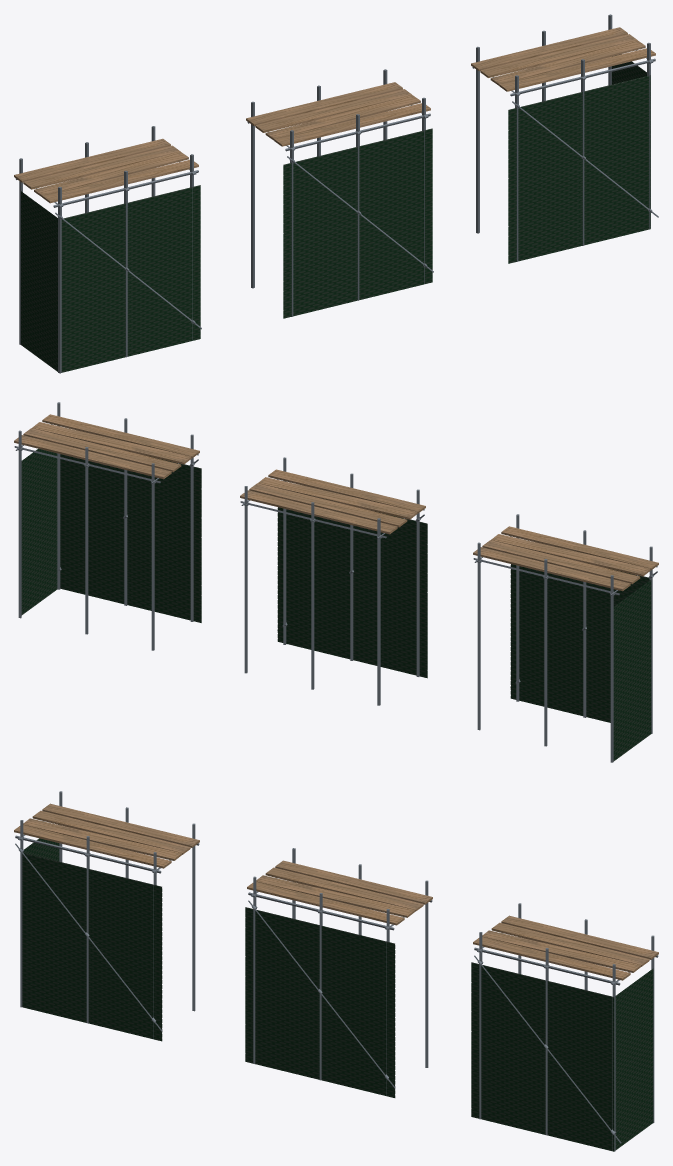
Rendered from scofolding.fbx.
3 renders of one model, top to bottom at view 1: azimuth 30°, elevation 25°; view 2: azimuth 150°, elevation 25°; view 3: azimuth 330°, elevation 25°, orthographic.
Parts seen in each view (by area): view 1: Scafolding 1, Scafolding 2, Scafolding 3; view 2: Scafolding 3, Scafolding 2, Scafolding 1; view 3: Scafolding 3, Scafolding 2, Scafolding 1.
Boxes of the visible parts, x1,y1,x2,y2 form: Scafolding 1: (14,126,201,373); Scafolding 2: (246,69,433,318); Scafolding 3: (471,14,658,263); Scafolding 3: (14,402,201,650); Scafolding 2: (240,457,427,705); Scafolding 1: (473,514,658,762); Scafolding 3: (471,903,658,1151); Scafolding 2: (245,848,432,1097); Scafolding 1: (14,791,199,1041).
Size of the model in its own units: 14.4 by 4.2 by 1.79.
